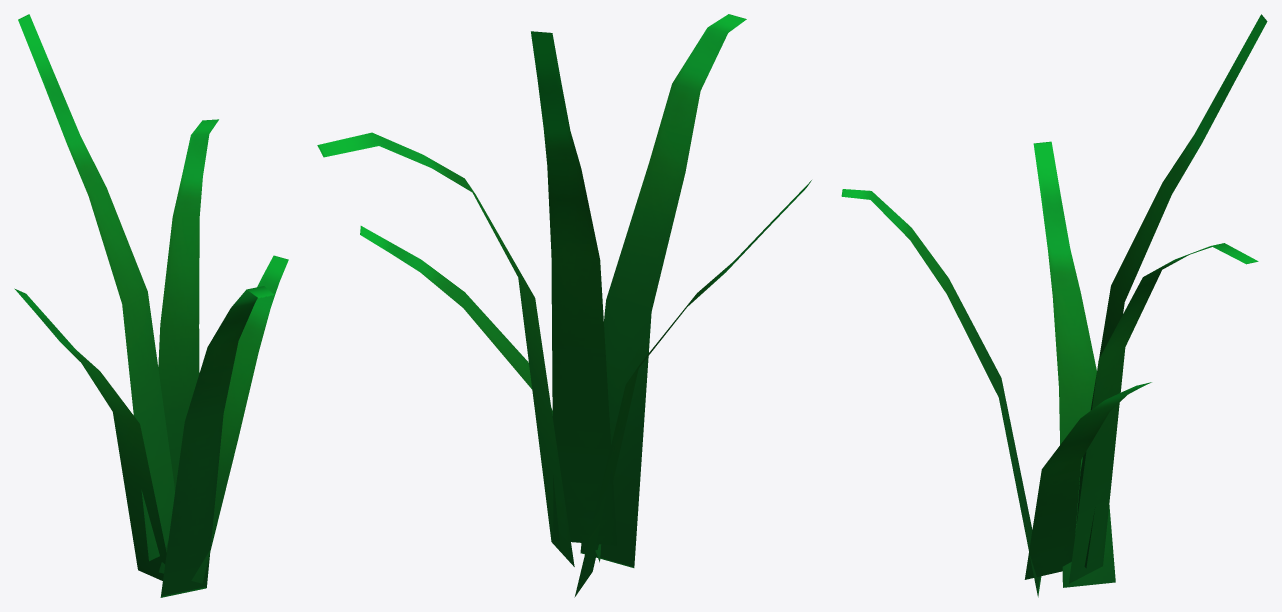
The model's file is matinho1.fbx.
3 views of the same model, side by side, from view 1: azimuth 30°, elevation 25°; view 2: azimuth 150°, elevation 25°; view 3: azimuth 270°, elevation 25° (orthographic). The views are drawn at different scales.
Visible parts, largest first — view 1: mato alto2; view 2: mato alto2; view 3: mato alto2.
Part boxes in pixels (x1=…): mato alto2: x1=14, y1=14, x2=288, y2=597; mato alto2: x1=317, y1=14, x2=811, y2=597; mato alto2: x1=841, y1=14, x2=1267, y2=597.
Bounding box in the file's own units: 74.09 × 115 × 82.13.
1 material, 1 textured.
